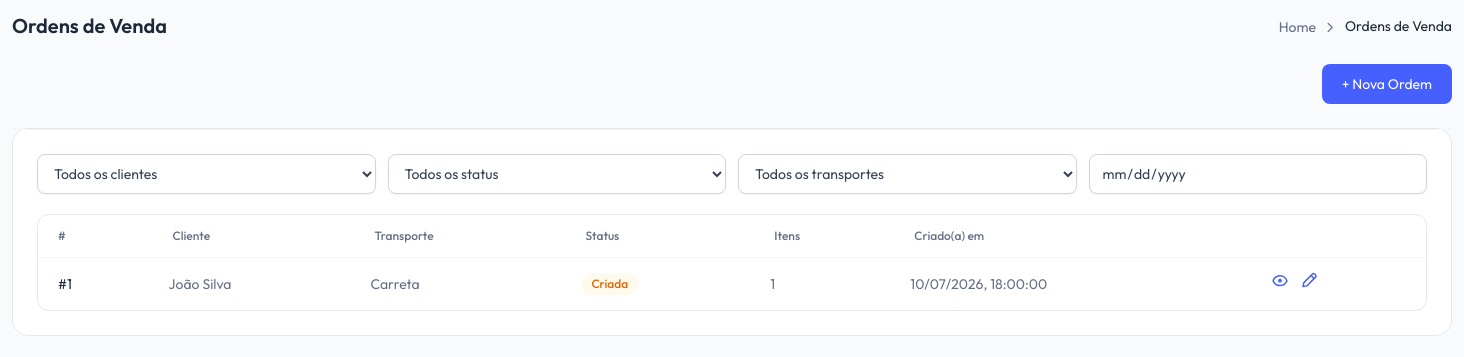
Test: filtros › limpa todos os filtros ao clicar em Limpar filtros
Step 1. Select "Criada" in the 2nd dropdown → (557, 174), box [388, 154, 726, 194]
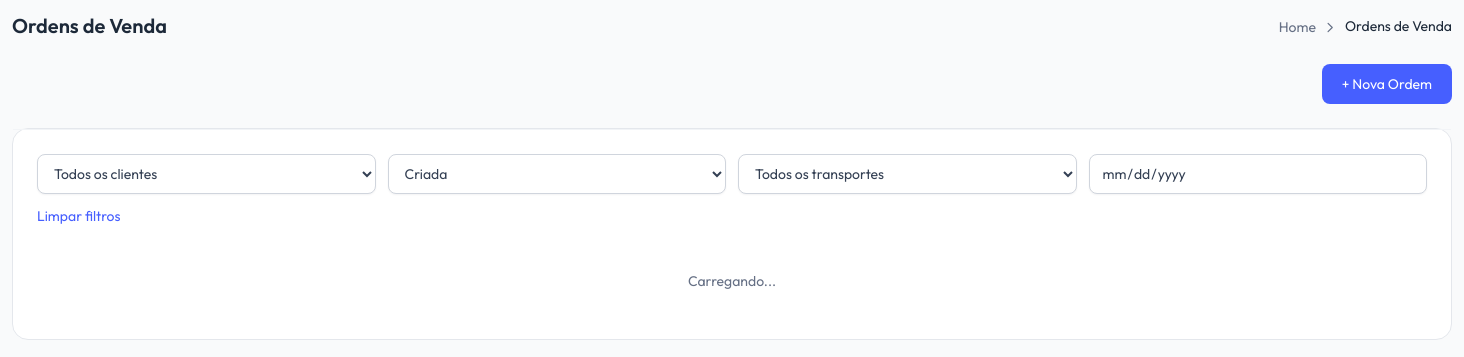
Expected: the button "Limpar filtros" is shown
Step 2. Click the button "Limpar filtros" → (79, 216), box [37, 206, 120, 226]
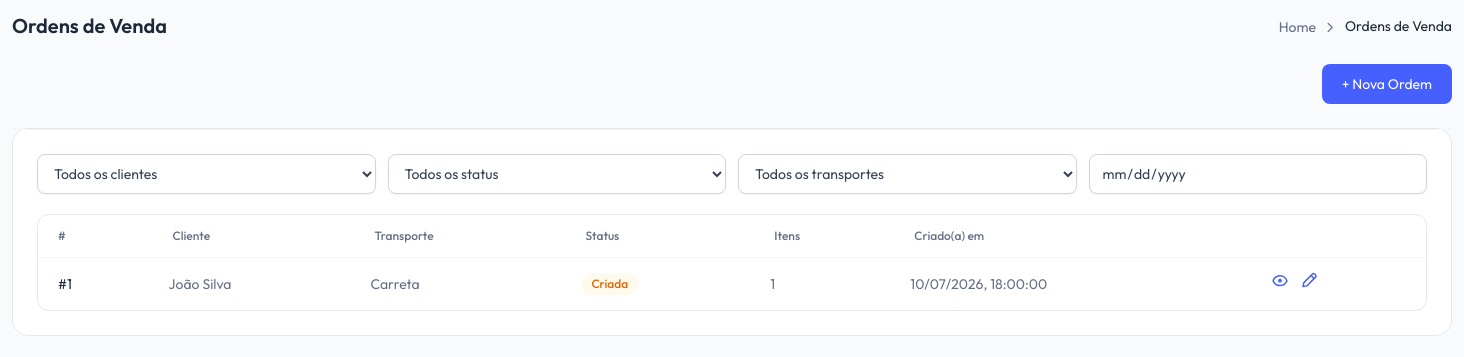
Expected: the button "Limpar filtros" is gone
